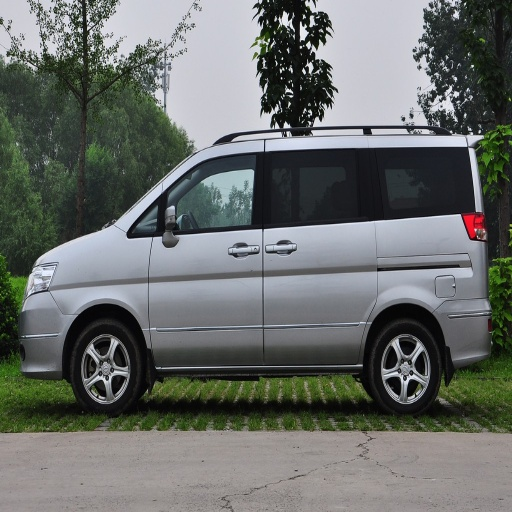back_left_door: (263, 140, 373, 361)
front_left_door: (139, 140, 264, 364)
trunk: (368, 258, 486, 365)
